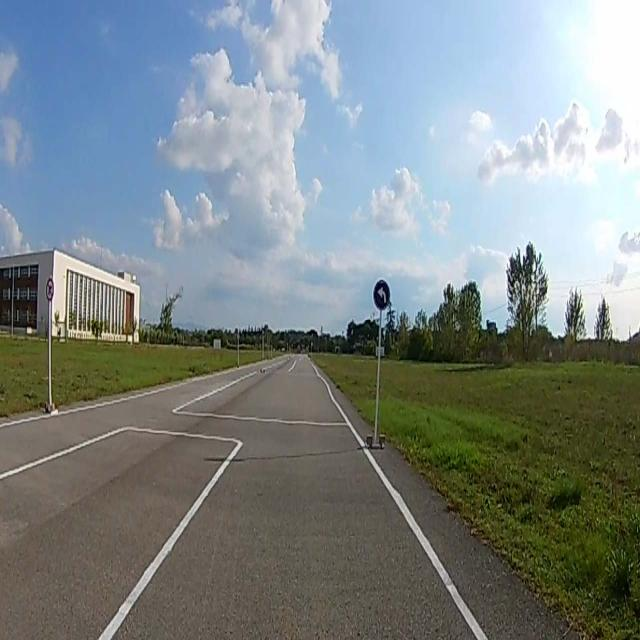sagadonulmez: (44, 276, 54, 302)
sol: (373, 278, 390, 310)
